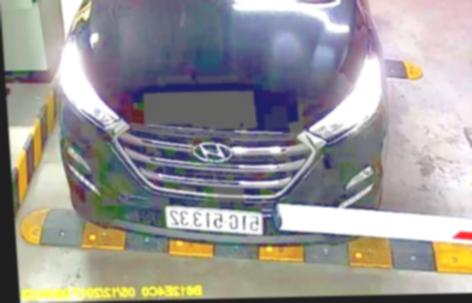License_Plate: (164, 204, 269, 237)
